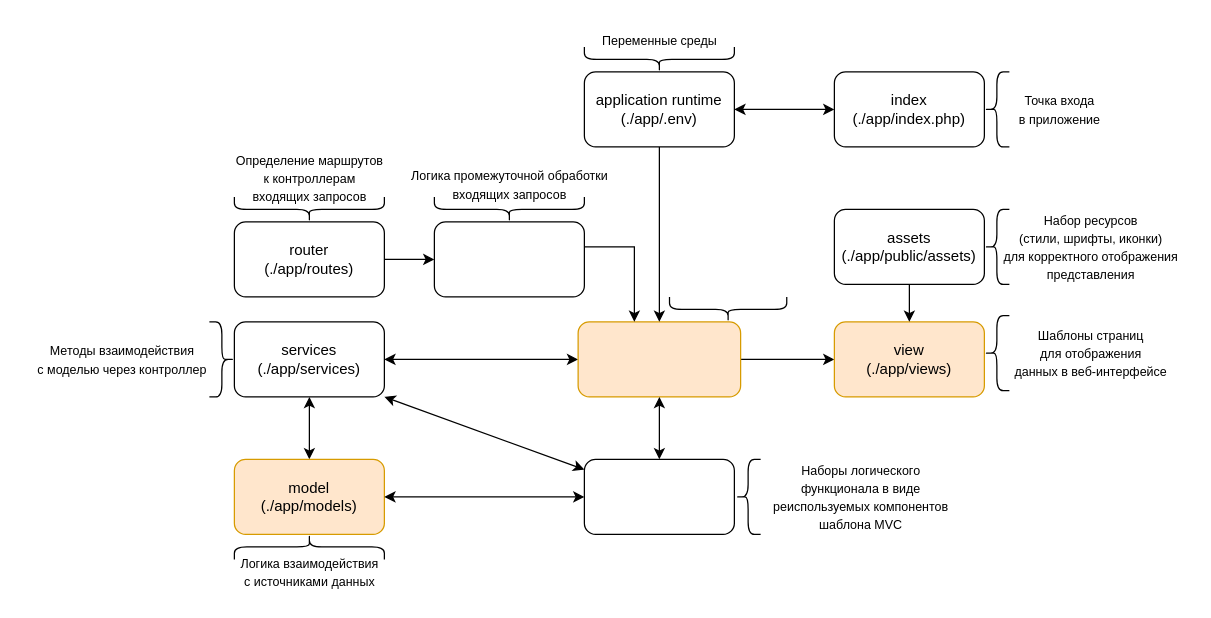
Some shapes in this 1211 by 618 pixel diagram are drawn without their labels. Here are the shapes that lost their labels. From the top down, the box of each, then its label:
(433, 221, 584, 297): middleware (./app/middleware)
(668, 296, 787, 322): Управление логикой приложения, хранит классы сущностей системы
(577, 321, 741, 397): controller (./app/controllers)
(583, 458, 734, 534): modules (./app/modules)
